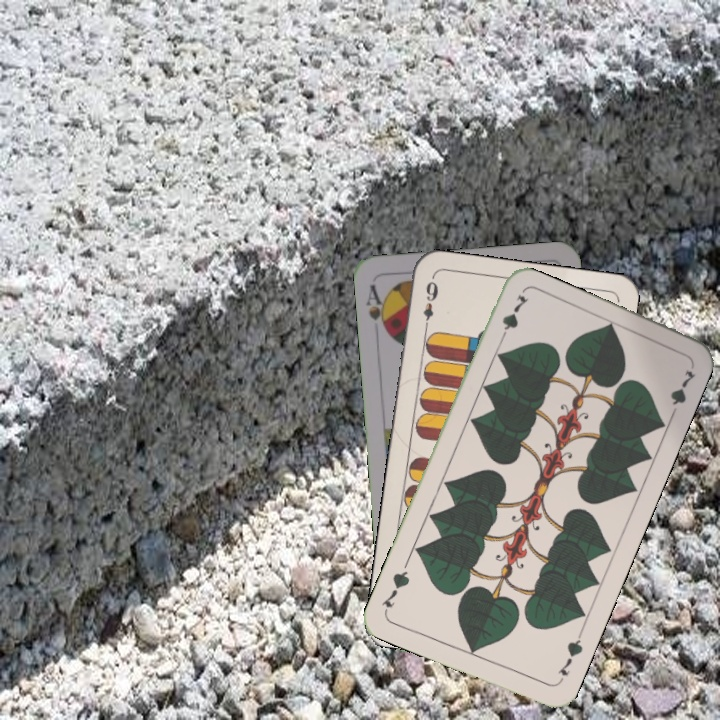E9: (419, 274, 441, 333)
G7: (495, 290, 531, 347), (553, 630, 586, 686)
SA: (362, 280, 392, 338)
